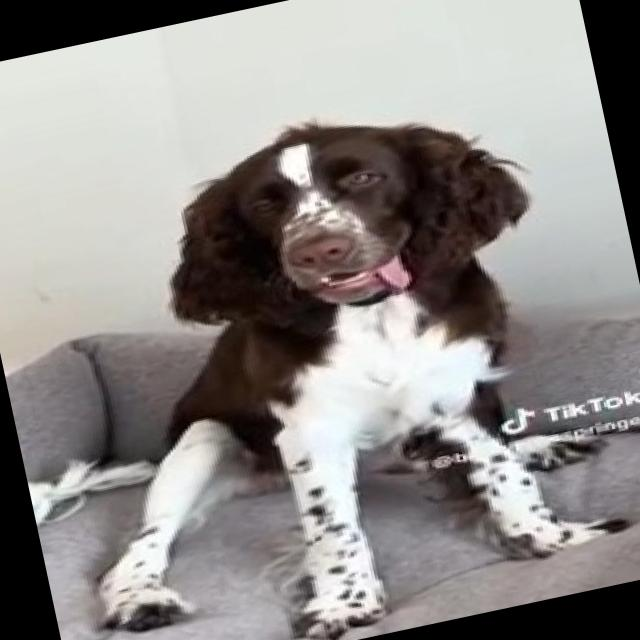dog: (114, 41, 583, 461)
